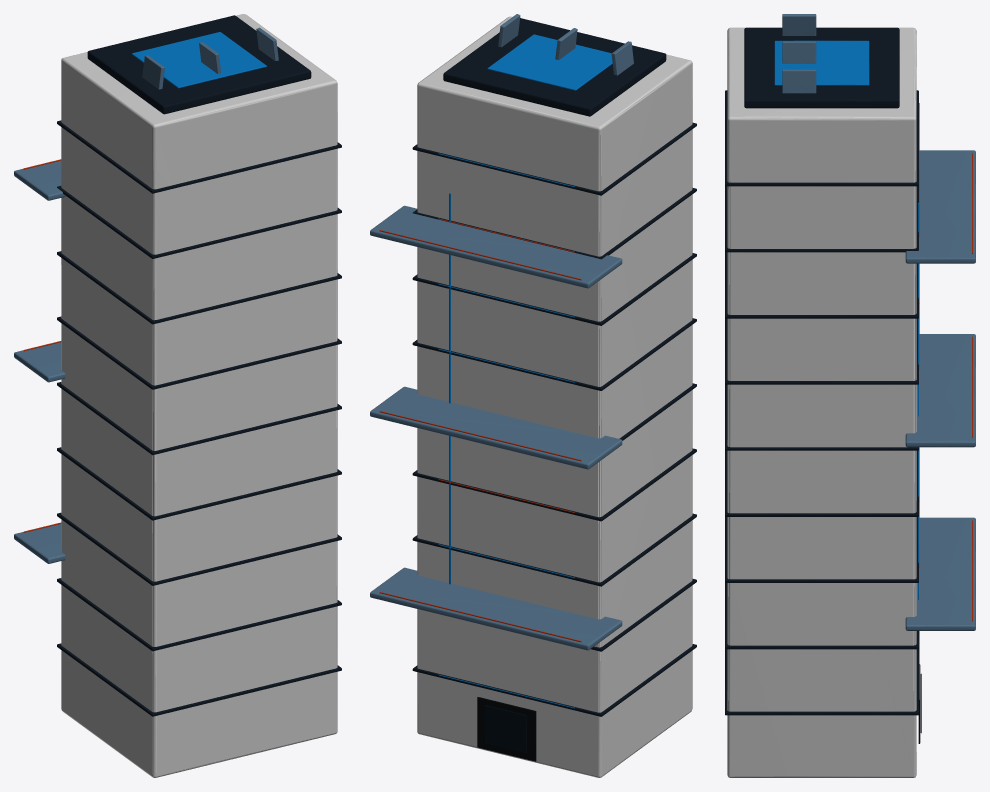
Rendered from HeroTowerA.obj.
3 renders of one model, left to right at view 1: azimuth 30°, elevation 25°; view 2: azimuth 150°, elevation 25°; view 3: azimuth 270°, elevation 25°, orthographic.
Visible parts, largest first — view 1: HeroTowerA_Facade, HeroTowerA_RoofArmor, HeroTowerA_CornerSpar, HeroTowerA_RoofLight; view 2: HeroTowerA_Facade, HeroTowerA_CornerSpar, HeroTowerA_RoofArmor, HeroTowerA_RoofLight, HeroTowerA_EntryGlass, HeroTowerA_BandGlow.003, HeroTowerA_EntryRecess; view 3: HeroTowerA_Facade, HeroTowerA_CornerSpar, HeroTowerA_RoofArmor, HeroTowerA_RoofLight.
Part boxes in pixels (bbox=[...]): HeroTowerA_Facade: bbox=[61, 14, 337, 777]; HeroTowerA_RoofArmor: bbox=[57, 15, 341, 716]; HeroTowerA_CornerSpar: bbox=[14, 27, 278, 563]; HeroTowerA_RoofLight: bbox=[132, 32, 266, 88]; HeroTowerA_Facade: bbox=[417, 16, 692, 777]; HeroTowerA_CornerSpar: bbox=[370, 14, 633, 650]; HeroTowerA_RoofArmor: bbox=[412, 18, 696, 716]; HeroTowerA_RoofLight: bbox=[438, 34, 612, 708]; HeroTowerA_EntryGlass: bbox=[484, 705, 527, 753]; HeroTowerA_BandGlow.003: bbox=[379, 218, 581, 642]; HeroTowerA_EntryRecess: bbox=[477, 697, 536, 761]; HeroTowerA_Facade: bbox=[727, 27, 916, 777]; HeroTowerA_CornerSpar: bbox=[782, 14, 975, 630]; HeroTowerA_RoofArmor: bbox=[725, 27, 918, 715]; HeroTowerA_RoofLight: bbox=[774, 40, 919, 699].
Size of the model in its own units: 19 by 56.45 by 18.57.
